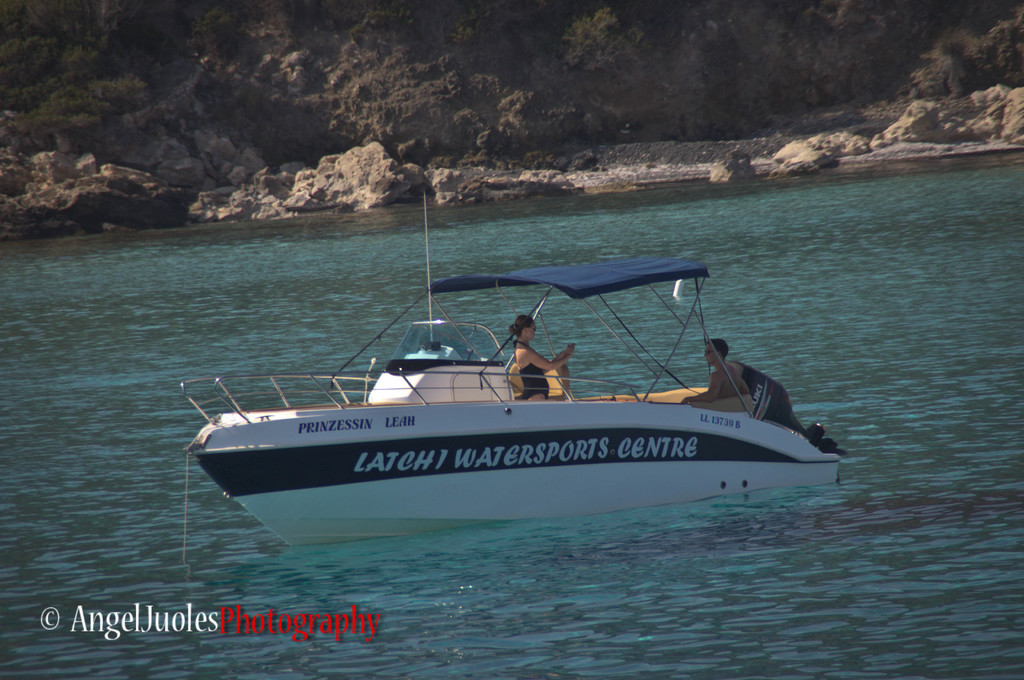boat: (165, 231, 875, 580)
